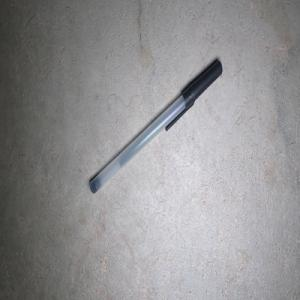Pen: (89, 60, 222, 193)
